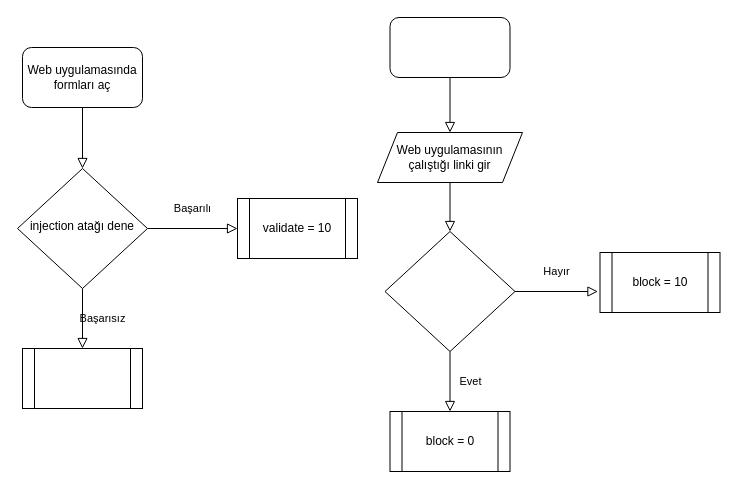
The diagram is 738 pixels wide and 489 high, and some of its shapes have lost their labels. The shapes that lost their labels are listed below. From the top down, each one's centre as x and y in pixels, then its label:
At pixel 449 47: "try-to-be-blocked.py script'ini çalıştır".
At pixel 449 291: "Host down olduğuna dair log geldi mi? (Bloklandın mı)".
At pixel 82 378: "validate = 0".
